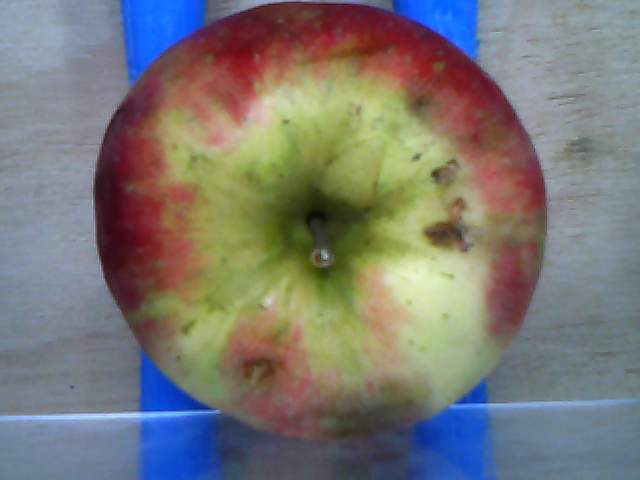puncture: (427, 220, 474, 249), (430, 158, 463, 189)
